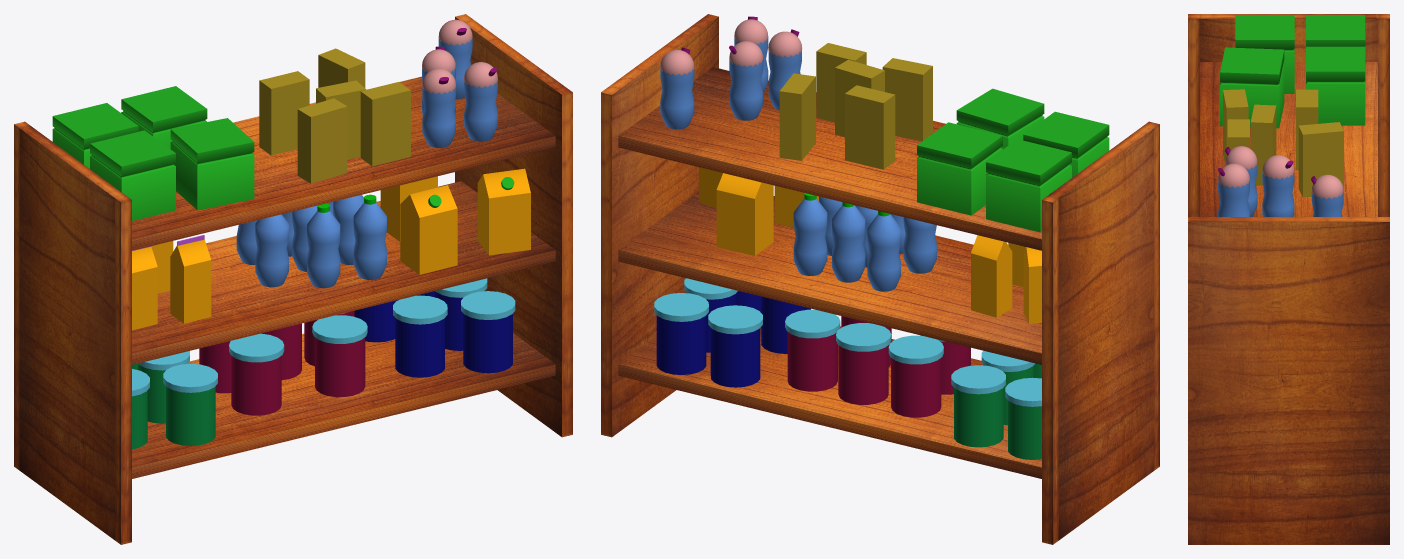
File: shelf.obj
The picture shows the model from 3 angles, left to right: view 1: azimuth 30°, elevation 25°; view 2: azimuth 150°, elevation 25°; view 3: azimuth 270°, elevation 25°; orthographic projection. The views are drawn at different scales.
Visible parts, largest first — view 1: Leg, Box001, Shelf, Box002, Shelf001, Box006, Tea, Box004, Box003, Sugar, Sugar003, Sugar001 (+34 smaller); view 2: Leg, Shelf, Box001, Shelf001, Box002, Tea002, Tea001, Box005, Sugar001, Sugar, Box006, Milk002 (+36 smaller); view 3: Box001, Shelf001, Leg, Tea002, Box006, Sugar002, Tea, Tea001, Sugar004, Creamer, Creamer003, Sugar001 (+7 smaller).
Boxes of the visible parts, box(x1,y1,x2,y2) form: Leg: box(14, 121, 131, 544); Box001: box(455, 14, 572, 437); Shelf: box(132, 181, 555, 364); Box002: box(132, 333, 555, 478); Shelf001: box(132, 76, 555, 250); Box006: box(170, 118, 254, 210); Tea: box(90, 130, 175, 220); Box004: box(400, 185, 457, 274); Box003: box(477, 168, 530, 255); Sugar: box(297, 98, 347, 183); Sugar003: box(360, 82, 410, 166); Sugar001: box(259, 71, 309, 155); Leg: box(1042, 121, 1159, 544); Shelf: box(618, 191, 1041, 364); Box001: box(601, 14, 718, 437); Shelf001: box(618, 67, 1041, 250); Box002: box(618, 326, 1041, 478); Tea002: box(917, 122, 1002, 215); Tea001: box(986, 139, 1071, 232); Box005: box(716, 173, 773, 255); Sugar001: box(845, 85, 895, 169); Sugar: box(882, 58, 932, 141); Box006: box(956, 88, 1044, 149); Milk002: box(971, 235, 1012, 317); Box001: box(1188, 217, 1389, 544); Shelf001: box(1200, 62, 1377, 216); Leg: box(1188, 14, 1389, 216); Tea002: box(1306, 46, 1365, 125); Box006: box(1220, 47, 1284, 128); Sugar002: box(1298, 122, 1343, 197); Tea: box(1235, 15, 1294, 93); Tea001: box(1306, 15, 1365, 46); Sugar004: box(1250, 104, 1276, 185); Creamer: box(1218, 146, 1257, 216); Creamer003: box(1262, 171, 1294, 216); Sugar001: box(1296, 89, 1318, 170).
Size of the model in its own units: 41.43 by 32.4 by 17.
